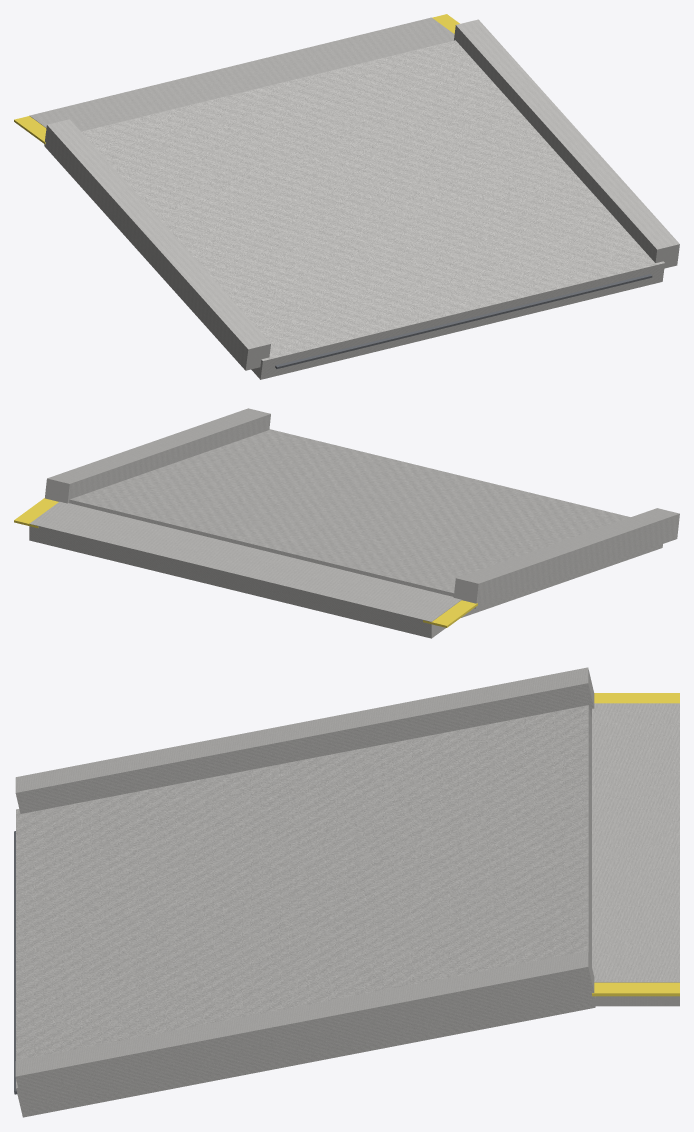
Rendered from marina-and-yacht-club-marina-and-yacht-club-slipway-mo-444f9bd7__38283.glb.
3 renders of one model, top to bottom at view 1: azimuth 30°, elevation 25°; view 2: azimuth 150°, elevation 25°; view 3: azimuth 270°, elevation 25°, orthographic. The views are drawn at different scales.
Parts seen in each view (by area): view 1: marina-and-yacht-club-slipway-module; view 2: marina-and-yacht-club-slipway-module; view 3: marina-and-yacht-club-slipway-module.
Boxes of the visible parts, x1=… form: marina-and-yacht-club-slipway-module: x1=14, y1=14, x2=679, y2=379; marina-and-yacht-club-slipway-module: x1=14, y1=408, x2=679, y2=638; marina-and-yacht-club-slipway-module: x1=14, y1=667, x2=679, y2=1117.
Bounding box in the file's own units: 6.46 × 1.61 × 6.05.
3 materials, 1 textured.
